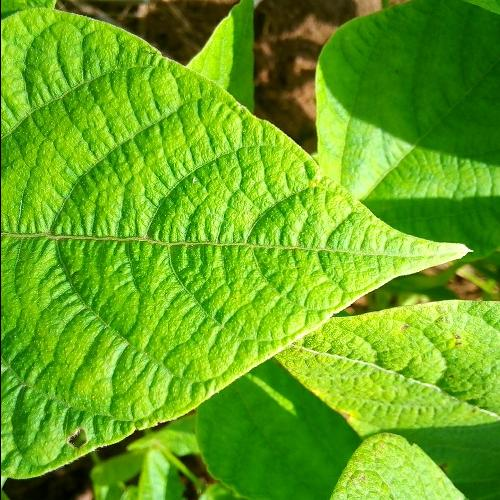hawar: (390, 310, 472, 359)
sehat: (9, 129, 260, 346), (9, 44, 134, 118), (360, 154, 471, 198)
